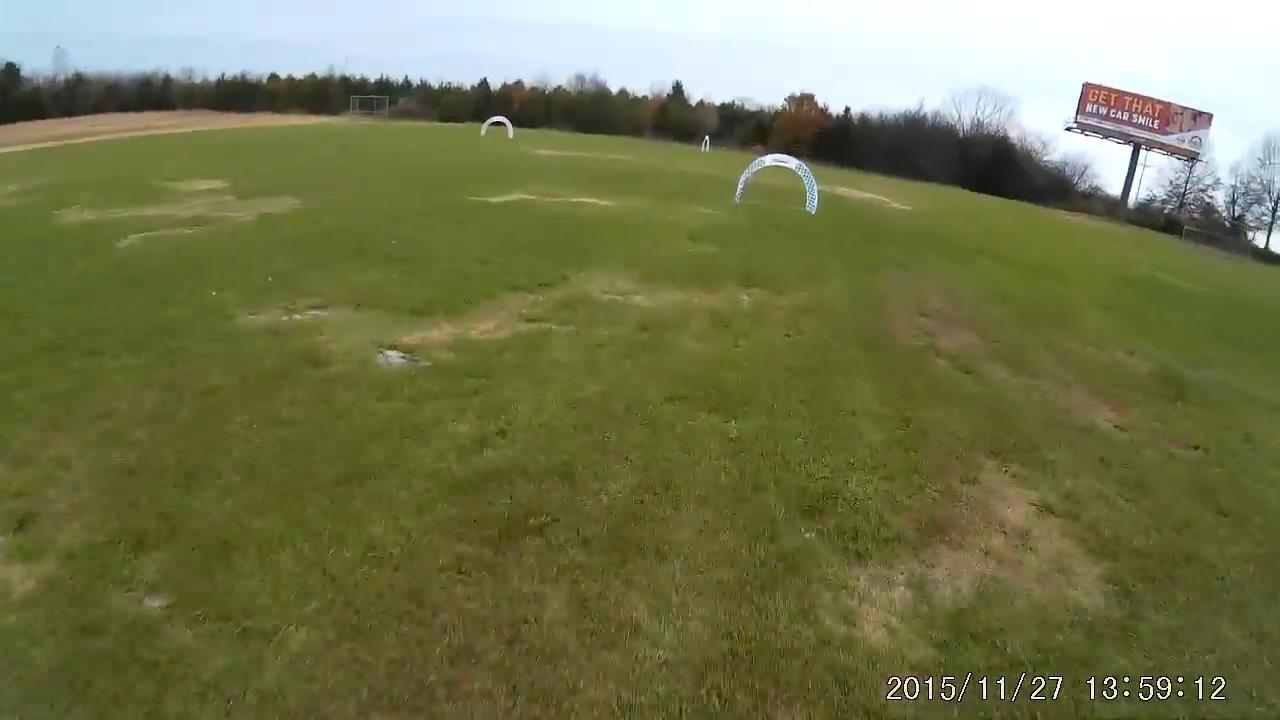gate: (732, 151, 821, 221)
